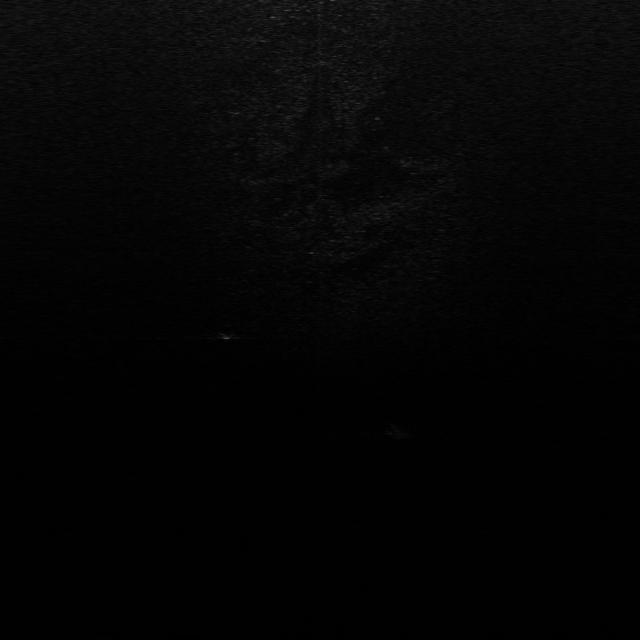ball: (381, 418, 413, 441)
circle cage: (213, 322, 241, 340)
